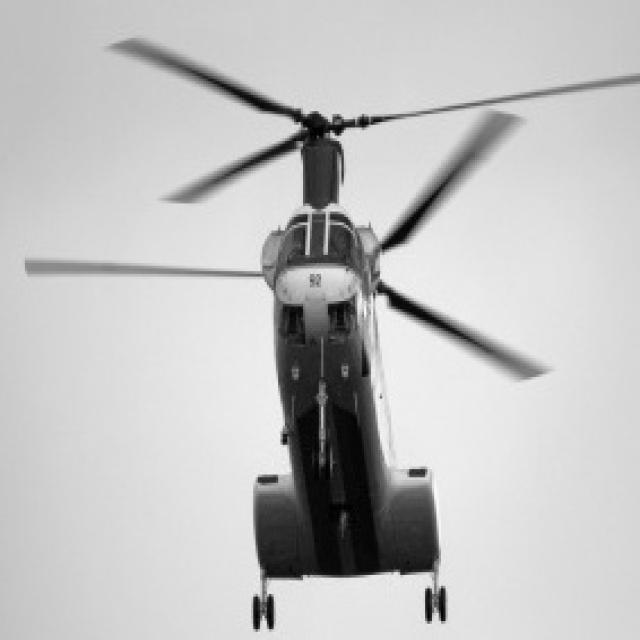Helicopter: (26, 41, 544, 624)
